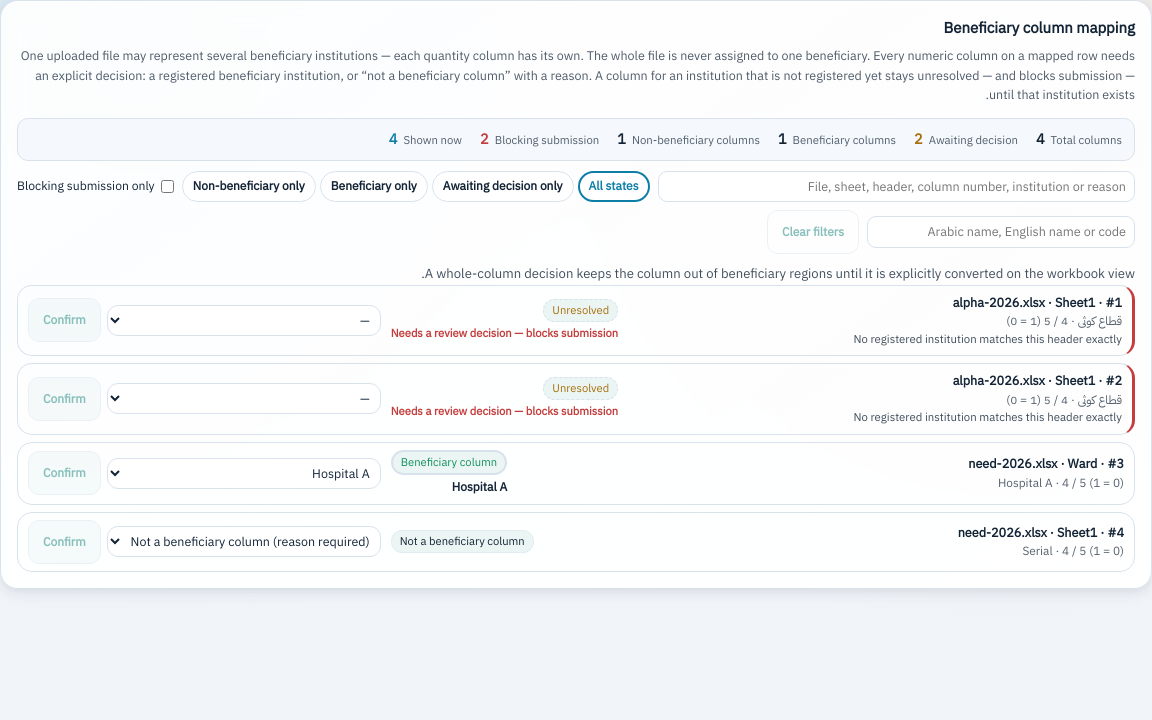
Scenario: UX-2B — filtering is client-only › does not silently discard a decision typed against a column a filter then hides
Select "Hospital B" in the dropdown named "Column review decision" in the row of "Ward" at (244, 473), box [107,458,381,489]
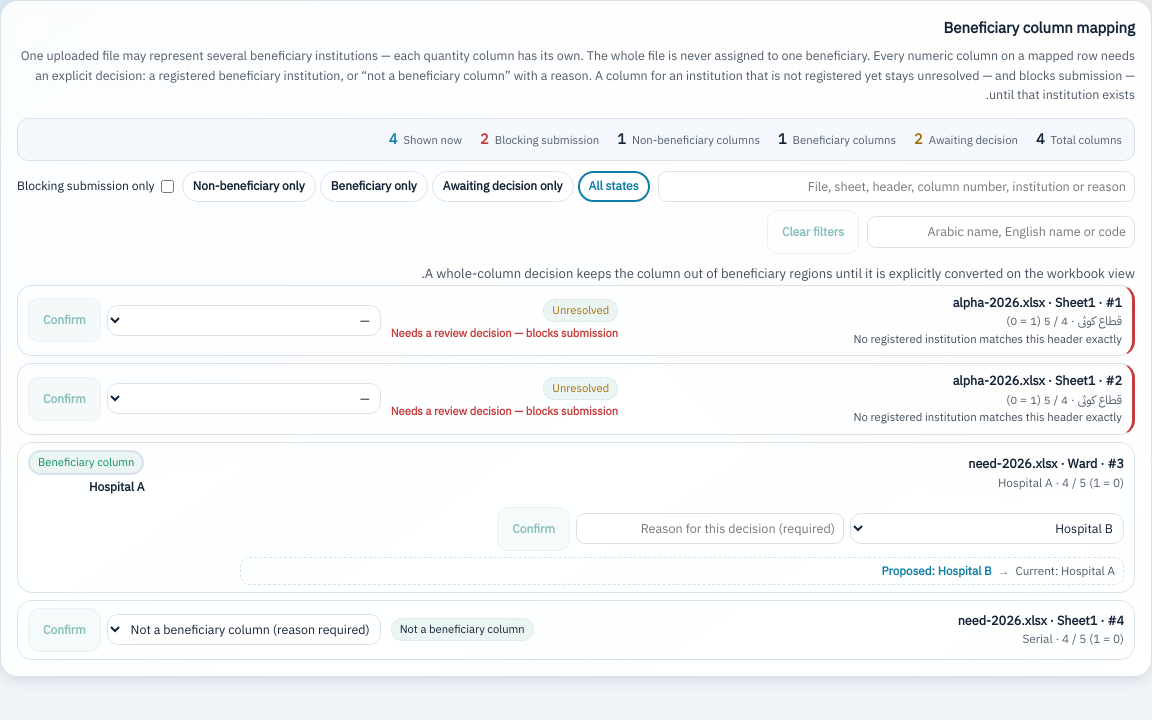
Type "Re-read: column 3 is Hospital B" into the field labelled "Reason for this decision (required)".
click(710, 529); type("Re-read: column 3 is Hospital B")  # box [576,513,844,544]
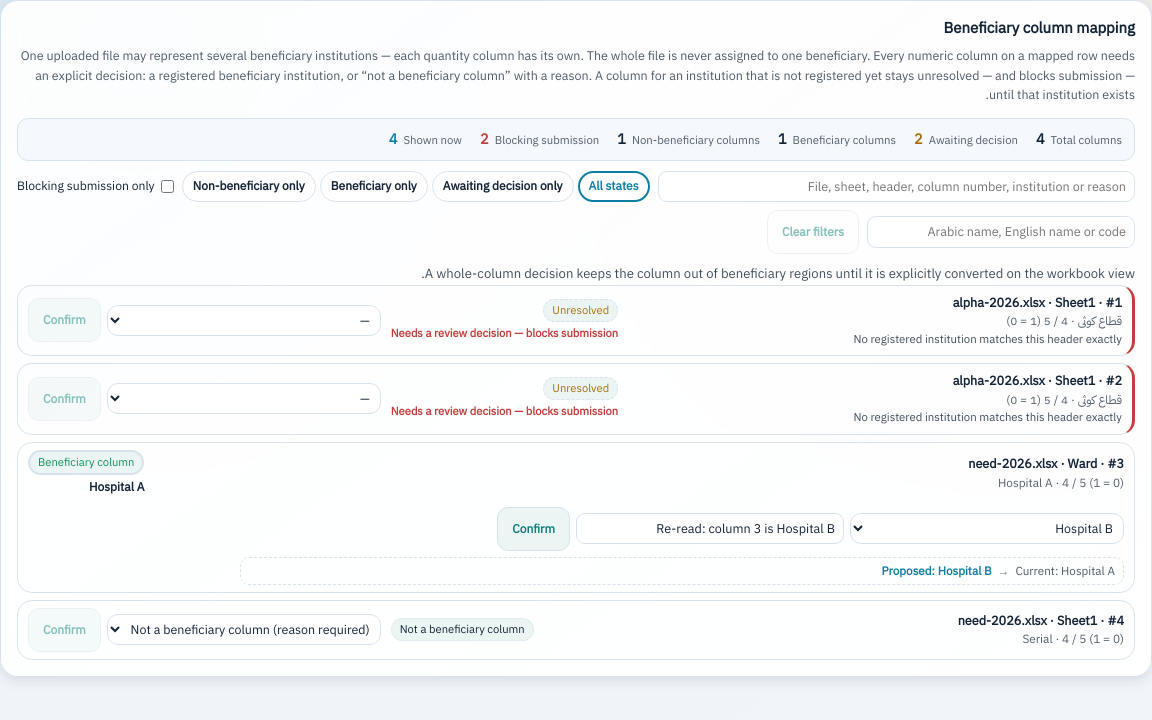
expect the 3rd button "Confirm" is enabled: met, box [497,507,570,551]
Click the button "Awaiting decision only".
click(503, 186)  # box [432,171,574,202]
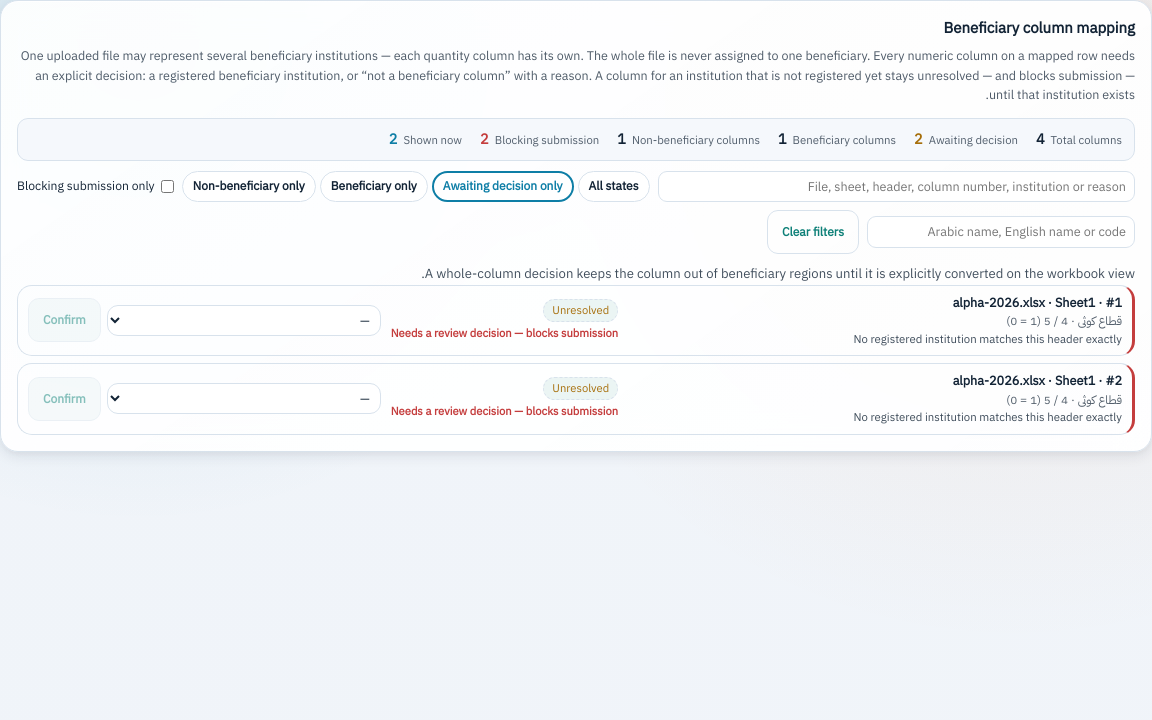
Click the button "All states".
click(614, 186)  # box [578,171,650,202]
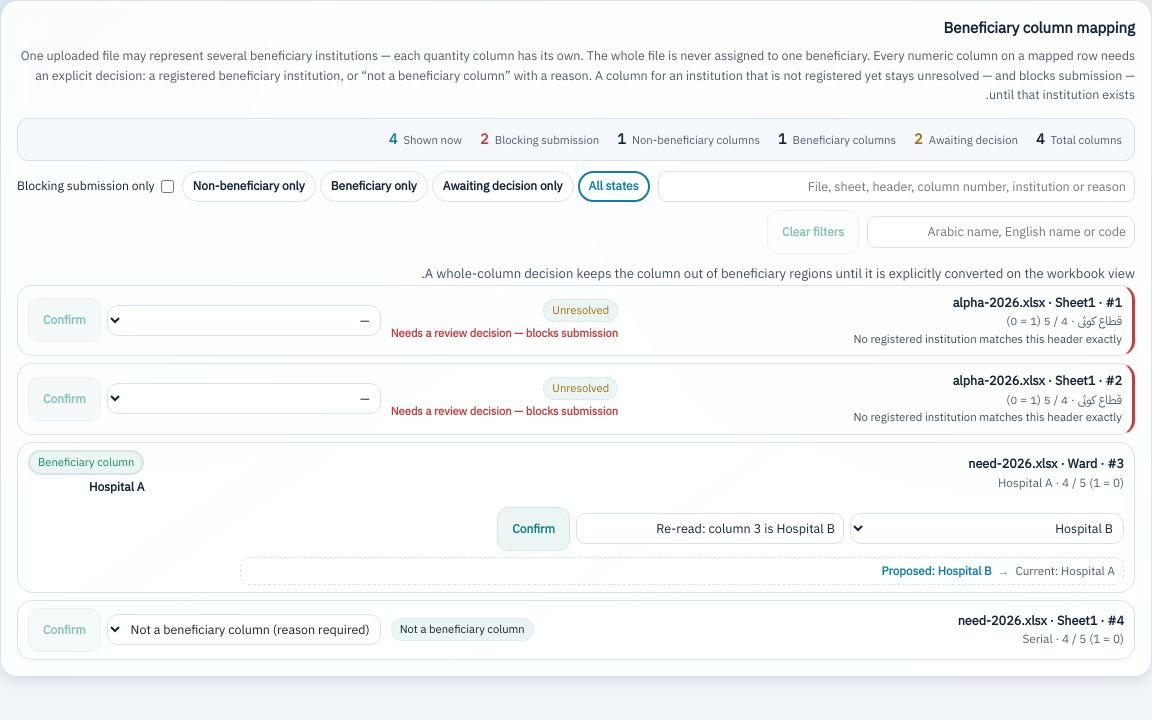
expect the dropdown named "Column review decision" below "Ward" shows "Hospital B": met, box [850,513,1124,544]
expect the field named "Reason for this decision (required)" holds "Re-read: column 3 is Hospital B": met, box [576,513,844,544]
expect the 3rd button "Confirm" is enabled: met, box [497,507,570,551]
